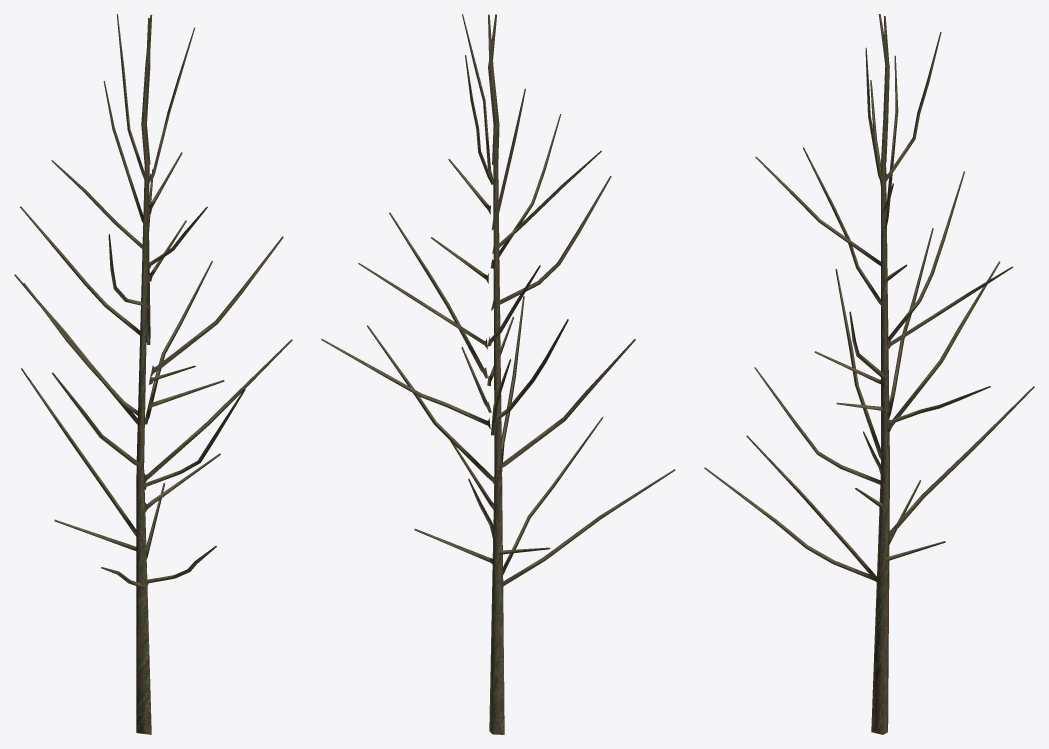
Rendered from Tree_sm07_1.fbx.
3 views of the same model, side by side, from view 1: azimuth 30°, elevation 25°; view 2: azimuth 150°, elevation 25°; view 3: azimuth 270°, elevation 25° (orthographic).
Visible parts, largest first — view 1: polySurface42; view 2: polySurface42; view 3: polySurface42.
Part boxes in pixels (<box>): polySurface42: <box>14,14,292,734</box>; polySurface42: <box>321,14,675,734</box>; polySurface42: <box>704,14,1034,734</box>.
Size of the model in its own units: 235 by 630 by 263.
